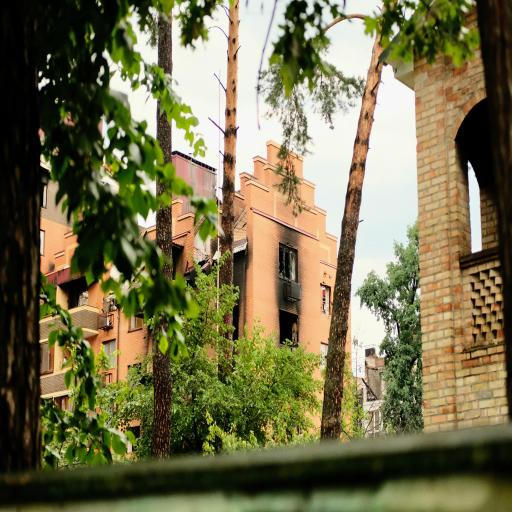buildingfire: (263, 213, 312, 351)
